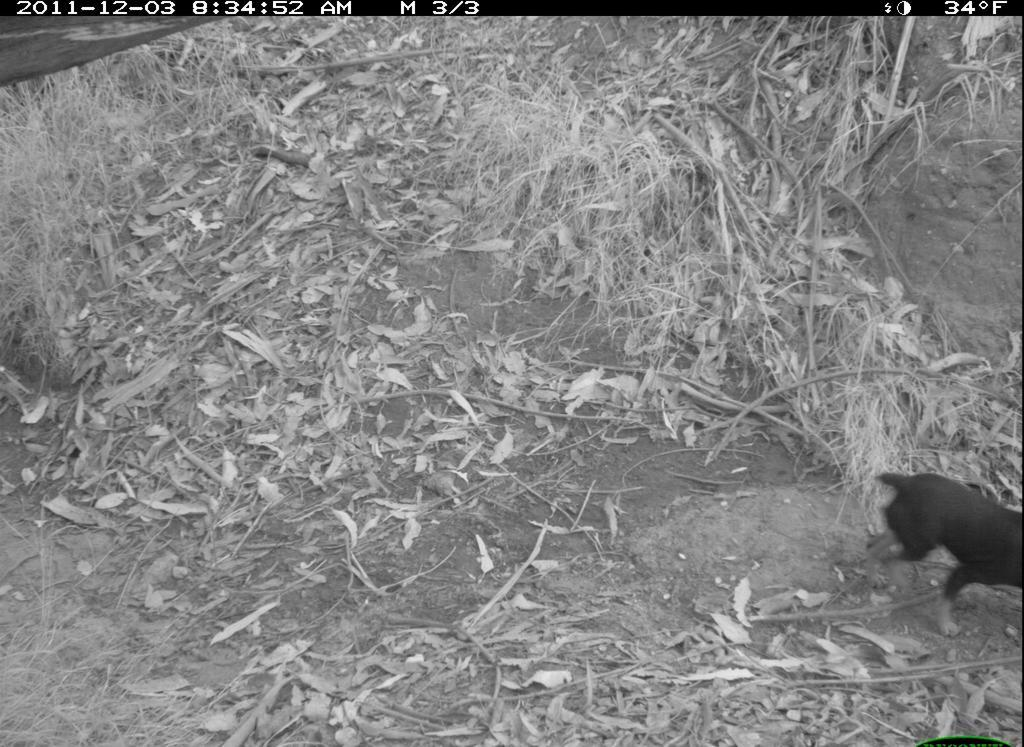dog: (850, 459, 1022, 643)
